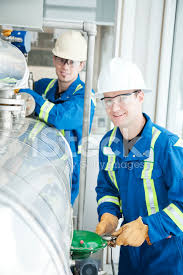Person_wearing_helmet: (99, 56, 146, 106), (40, 26, 90, 62)
